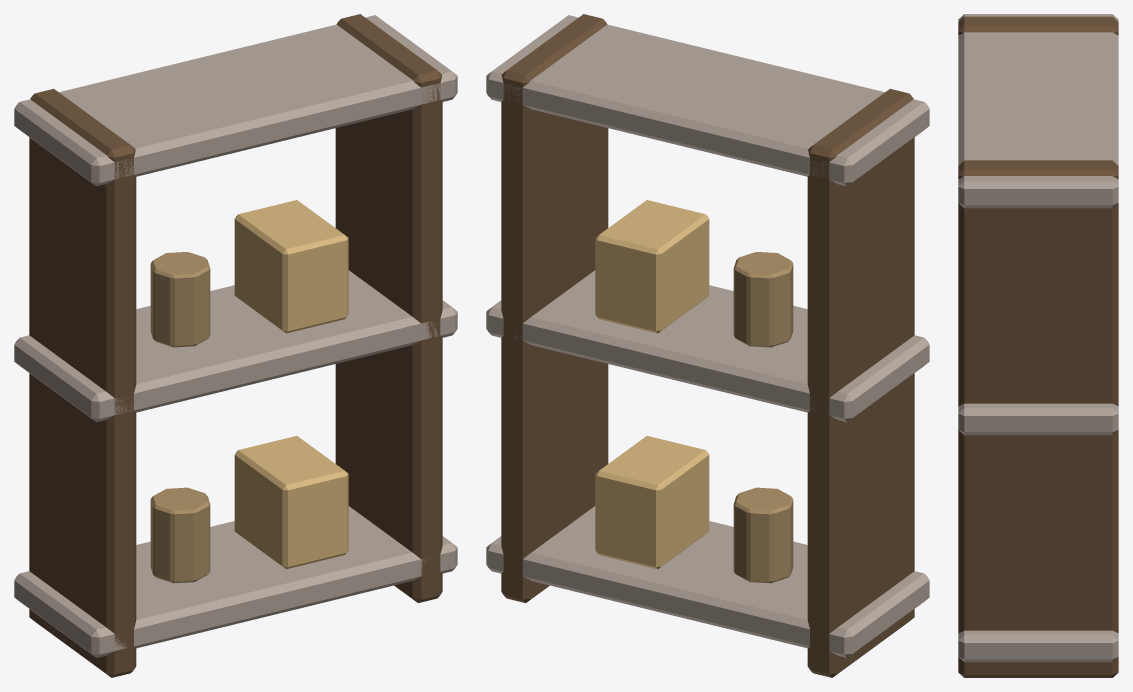
Rendered from town_reagent_shelf.lod1.glb.
3 renders of one model, left to right at view 1: azimuth 30°, elevation 25°; view 2: azimuth 150°, elevation 25°; view 3: azimuth 270°, elevation 25°, orthographic. The views are drawn at different scales.
Bounding box in the file's own units: 1.22 × 1.68 × 0.48.
